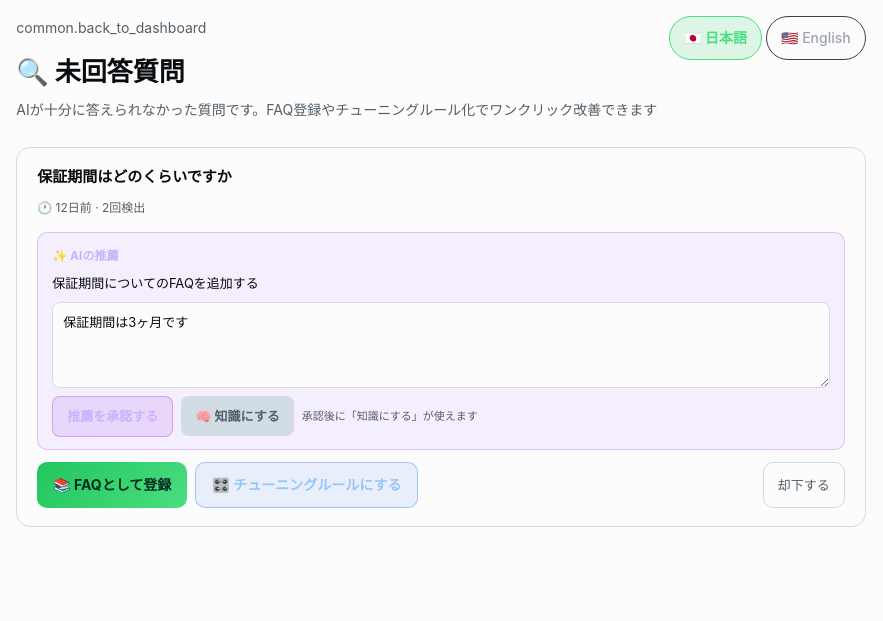
Test: KnowledgeGapsPage — 承認と知識化 › 壊れやすいポイント: 承認APIが失敗したら「承認済み」を楽観的に表示せず、ボタンも元のまま残す
Step 1. Click the button "推薦を承認する" → (113, 416), box [52,396,173,437]
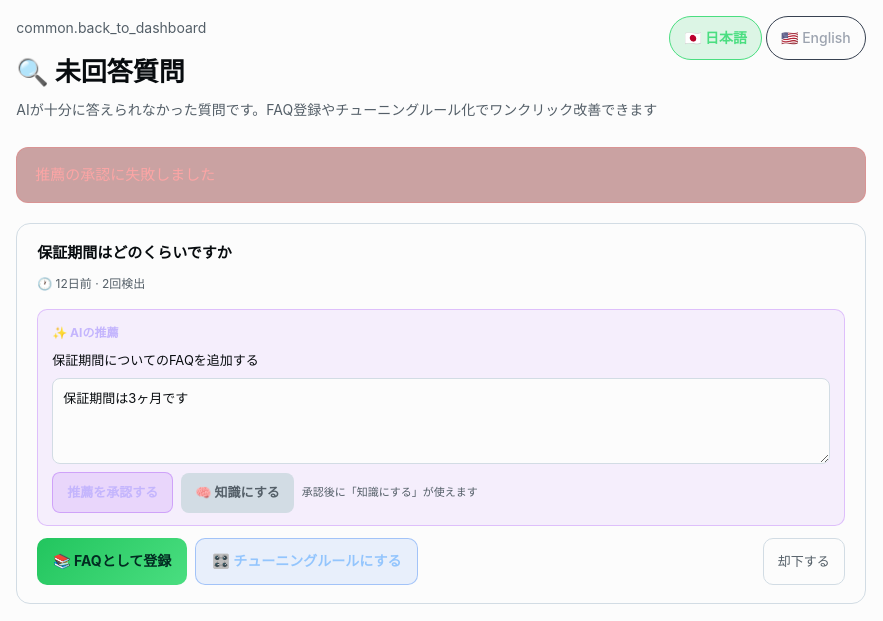
Check: the button "推薦を承認する" is shown, box [52,472,173,513]
Check: the text "推薦の承認に失敗しました" is shown, box [16,146,866,203]
